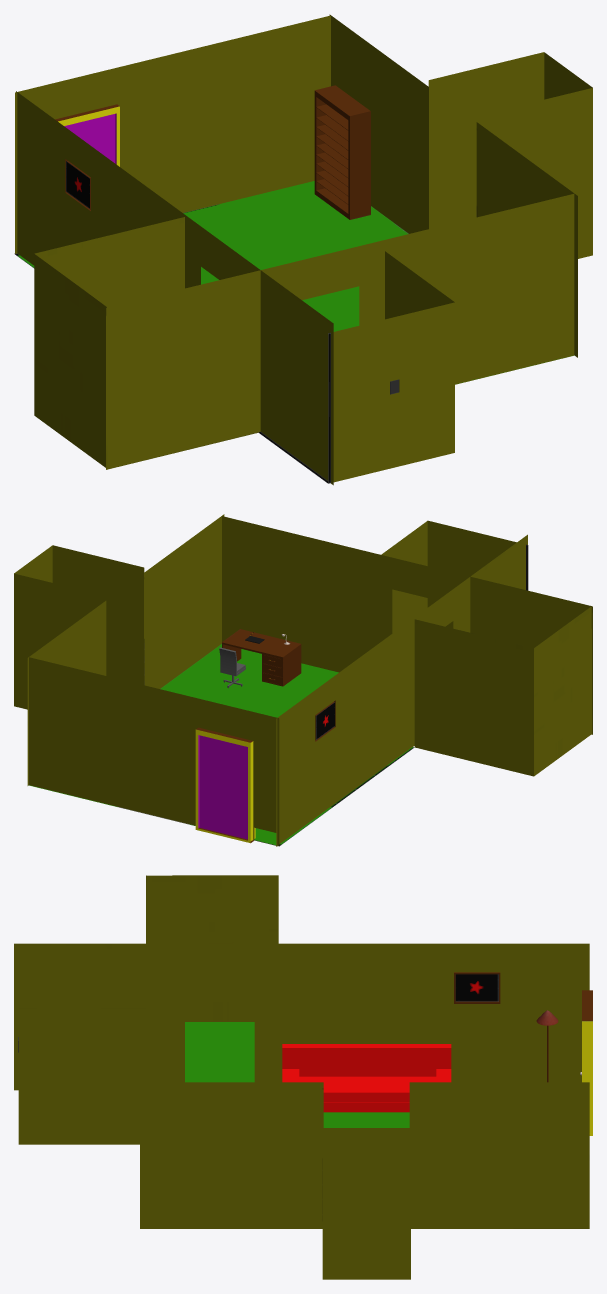
The model's file is environment.fbx.
3 renders of one model, top to bottom at view 1: azimuth 30°, elevation 25°; view 2: azimuth 150°, elevation 25°; view 3: azimuth 270°, elevation 25°, orthographic. The views are drawn at different scales.
Parts seen in each view (by area): view 1: door_exit1; view 2: door_exit1; view 3: door_exit1.
Boxes of the visible parts, x1,y1,x2,y2 form: door_exit1: [14, 14, 592, 485]; door_exit1: [14, 514, 592, 846]; door_exit1: [14, 875, 592, 1279].
Bounding box in the file's own units: 55.32 × 15.34 × 52.39.
